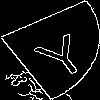Y: (25, 25, 96, 81)
